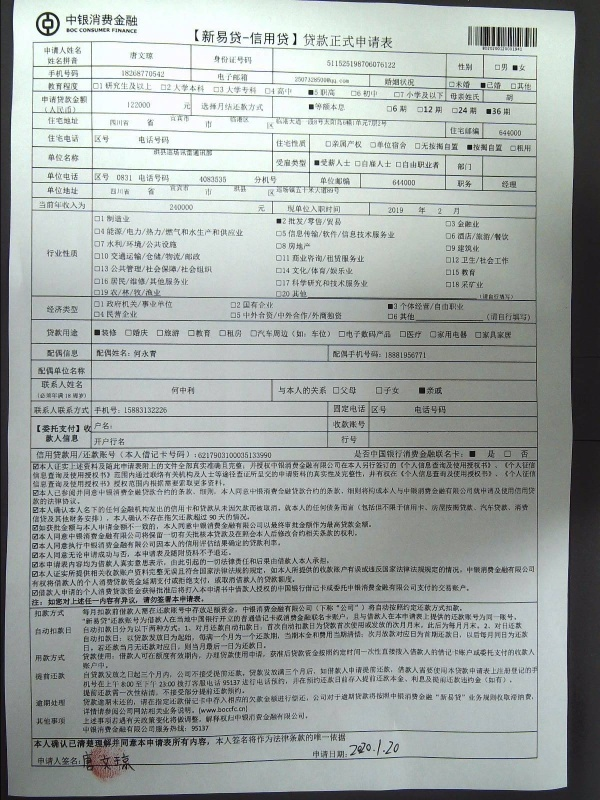text: (193, 27, 208, 52), (209, 27, 224, 52), (225, 27, 240, 52), (241, 27, 256, 52), (257, 27, 272, 52), (273, 27, 288, 52), (289, 27, 304, 52), (305, 27, 320, 52), (321, 27, 336, 52), (337, 27, 352, 52), (353, 27, 368, 52), (369, 27, 384, 52), (81, 750, 96, 775), (97, 750, 112, 775), (113, 750, 128, 775), (97, 81, 112, 102), (113, 81, 128, 102), (129, 81, 144, 102), (145, 81, 160, 102), (161, 81, 176, 102), (177, 81, 192, 102), (193, 81, 208, 102), (209, 81, 224, 102), (225, 81, 240, 102), (241, 81, 256, 102), (257, 81, 272, 102), (273, 81, 288, 102), (289, 81, 304, 102), (305, 81, 320, 102), (321, 81, 336, 102), (337, 81, 352, 102), (353, 81, 368, 102), (369, 81, 384, 102), (385, 81, 400, 102), (401, 81, 416, 102), (417, 81, 432, 102), (353, 738, 368, 759), (369, 738, 384, 759), (385, 738, 400, 759), (385, 27, 397, 52), (433, 81, 447, 102), (49, 732, 64, 751), (65, 732, 80, 751), (81, 732, 96, 751), (97, 732, 112, 751), (113, 732, 128, 751), (129, 732, 144, 751), (145, 732, 160, 751), (161, 732, 176, 751), (177, 732, 192, 751), (193, 732, 208, 751), (209, 732, 224, 751), (225, 732, 240, 751), (241, 732, 256, 751), (257, 732, 272, 751), (273, 732, 288, 751), (289, 732, 304, 751), (305, 732, 320, 751), (321, 732, 336, 751), (34, 732, 48, 751), (81, 12, 96, 29), (97, 12, 112, 29), (113, 12, 128, 29), (337, 732, 350, 751), (337, 137, 352, 153), (353, 137, 368, 153), (369, 137, 384, 153), (385, 137, 400, 153), (401, 137, 416, 153), (417, 137, 432, 153), (433, 137, 448, 153), (449, 137, 464, 153), (465, 137, 480, 153), (481, 137, 496, 153), (497, 137, 512, 153), (513, 137, 528, 153), (33, 583, 48, 599), (49, 583, 64, 599), (65, 583, 80, 599), (81, 583, 96, 599), (97, 583, 112, 599), (113, 583, 128, 599), (129, 583, 144, 599), (145, 583, 160, 599), (161, 583, 176, 599), (177, 583, 192, 599), (193, 583, 208, 599), (209, 583, 224, 599), (225, 583, 240, 599), (241, 583, 256, 599), (257, 583, 272, 599), (273, 583, 288, 599), (289, 583, 304, 599), (305, 583, 320, 599), (321, 583, 336, 599), (337, 583, 352, 599), (353, 583, 368, 599), (369, 583, 384, 599), (385, 583, 400, 599), (401, 583, 416, 599), (417, 583, 432, 599), (433, 583, 448, 599), (449, 583, 464, 599), (33, 594, 48, 610), (49, 594, 64, 610), (65, 594, 80, 610), (81, 594, 96, 610), (97, 594, 112, 610), (113, 594, 128, 610), (129, 594, 144, 610), (145, 594, 160, 610), (161, 594, 176, 610), (177, 594, 192, 610), (193, 594, 208, 610), (81, 620, 96, 636), (97, 620, 112, 636), (113, 620, 128, 636), (129, 620, 144, 636), (145, 620, 160, 636), (161, 620, 176, 636), (177, 620, 192, 636), (193, 620, 208, 636), (209, 620, 224, 636), (225, 620, 240, 636), (241, 620, 256, 636), (257, 620, 272, 636), (273, 620, 288, 636), (289, 620, 304, 636), (305, 620, 320, 636), (321, 620, 336, 636), (337, 620, 352, 636), (353, 620, 368, 636), (369, 620, 384, 636), (385, 620, 400, 636), (401, 620, 416, 636), (417, 620, 432, 636), (433, 620, 448, 636), (449, 620, 464, 636), (465, 620, 480, 636), (481, 620, 496, 636), (497, 620, 512, 636), (513, 620, 528, 636), (66, 12, 80, 29), (129, 12, 143, 29), (385, 104, 400, 119), (401, 104, 416, 119), (417, 104, 432, 119), (433, 104, 448, 119), (449, 104, 464, 119), (465, 104, 480, 119), (481, 104, 496, 119), (497, 104, 512, 119), (97, 327, 112, 342), (113, 327, 128, 342), (129, 327, 144, 342), (145, 327, 160, 342), (161, 327, 176, 342), (177, 327, 192, 342), (193, 327, 208, 342), (209, 327, 224, 342), (225, 327, 240, 342), (241, 327, 256, 342), (257, 327, 272, 342), (273, 327, 288, 342), (289, 327, 304, 342), (305, 327, 320, 342), (321, 327, 336, 342), (337, 327, 352, 342), (353, 327, 368, 342), (369, 327, 384, 342), (385, 327, 400, 342), (401, 327, 416, 342), (417, 327, 432, 342), (433, 327, 448, 342), (449, 327, 464, 342), (465, 327, 480, 342), (481, 327, 496, 342), (497, 327, 512, 342), (33, 564, 48, 579), (49, 564, 64, 579), (65, 564, 80, 579), (81, 564, 96, 579), (97, 564, 112, 579), (113, 564, 128, 579), (129, 564, 144, 579), (145, 564, 160, 579), (161, 564, 176, 579), (177, 564, 192, 579), (193, 564, 208, 579), (209, 564, 224, 579), (225, 564, 240, 579), (241, 564, 256, 579), (257, 564, 272, 579), (273, 564, 288, 579), (289, 564, 304, 579), (305, 564, 320, 579), (321, 564, 336, 579), (337, 564, 352, 579), (353, 564, 368, 579), (369, 564, 384, 579), (385, 564, 400, 579), (401, 564, 416, 579), (417, 564, 432, 579), (433, 564, 448, 579), (449, 564, 464, 579), (465, 564, 480, 579), (481, 564, 496, 579), (497, 564, 512, 579), (513, 564, 528, 579), (97, 603, 112, 618), (113, 603, 128, 618), (129, 603, 144, 618), (145, 603, 160, 618), (161, 603, 176, 618), (177, 603, 192, 618), (193, 603, 208, 618), (209, 603, 224, 618), (225, 603, 240, 618), (241, 603, 256, 618), (257, 603, 272, 618), (273, 603, 288, 618), (289, 603, 304, 618), (305, 603, 320, 618), (321, 603, 336, 618), (337, 603, 352, 618), (353, 603, 368, 618), (369, 603, 384, 618), (385, 603, 400, 618), (401, 603, 416, 618), (417, 603, 432, 618), (433, 603, 448, 618), (449, 603, 464, 618), (97, 647, 112, 662), (113, 647, 128, 662), (129, 647, 144, 662), (145, 647, 160, 662), (161, 647, 176, 662), (177, 647, 192, 662), (193, 647, 208, 662), (209, 647, 224, 662), (225, 647, 240, 662), (241, 647, 256, 662), (257, 647, 272, 662), (273, 647, 288, 662), (289, 647, 304, 662), (305, 647, 320, 662), (321, 647, 336, 662), (337, 647, 352, 662), (353, 647, 368, 662), (369, 647, 384, 662), (385, 647, 400, 662), (401, 647, 416, 662), (417, 647, 432, 662), (433, 647, 448, 662), (449, 647, 464, 662), (465, 647, 480, 662), (481, 647, 496, 662), (497, 647, 512, 662), (513, 647, 528, 662), (97, 665, 112, 680), (113, 665, 128, 680), (129, 665, 144, 680), (145, 665, 160, 680), (161, 665, 176, 680), (177, 665, 192, 680), (193, 665, 208, 680), (209, 665, 224, 680), (225, 665, 240, 680), (241, 665, 256, 680), (257, 665, 272, 680), (273, 665, 288, 680), (289, 665, 304, 680), (305, 665, 320, 680), (321, 665, 336, 680), (337, 665, 352, 680), (353, 665, 368, 680), (369, 665, 384, 680), (385, 665, 400, 680), (401, 665, 416, 680), (417, 665, 432, 680), (433, 665, 448, 680), (449, 665, 464, 680), (465, 665, 480, 680), (481, 665, 496, 680), (497, 665, 512, 680), (513, 665, 528, 680), (97, 693, 112, 708), (113, 693, 128, 708), (129, 693, 144, 708), (145, 693, 160, 708), (161, 693, 176, 708), (177, 693, 192, 708), (193, 693, 208, 708), (209, 693, 224, 708), (225, 693, 240, 708), (241, 693, 256, 708), (257, 693, 272, 708), (273, 693, 288, 708), (289, 693, 304, 708), (305, 693, 320, 708), (321, 693, 336, 708), (337, 693, 352, 708), (353, 693, 368, 708), (369, 693, 384, 708), (385, 693, 400, 708), (401, 693, 416, 708), (417, 693, 432, 708), (433, 693, 448, 708), (449, 693, 464, 708), (465, 693, 480, 708), (481, 693, 496, 708), (497, 693, 512, 708), (513, 693, 528, 708), (273, 538, 289, 552), (321, 158, 336, 172), (337, 158, 352, 172), (353, 158, 368, 172), (369, 158, 384, 172), (385, 158, 400, 172), (401, 158, 416, 172), (417, 158, 432, 172), (289, 228, 304, 242), (305, 228, 320, 242), (321, 228, 336, 242), (337, 228, 352, 242), (353, 228, 368, 242), (369, 228, 384, 242), (289, 253, 304, 267), (305, 253, 320, 267), (321, 253, 336, 267), (337, 253, 352, 267), (33, 502, 48, 516), (49, 502, 64, 516), (65, 502, 80, 516), (81, 502, 96, 516), (97, 502, 112, 516), (113, 502, 128, 516), (129, 502, 144, 516), (145, 502, 160, 516), (161, 502, 176, 516), (177, 502, 192, 516), (193, 502, 208, 516), (209, 502, 224, 516), (225, 502, 240, 516), (241, 502, 256, 516), (257, 502, 272, 516), (273, 502, 288, 516), (289, 502, 304, 516), (305, 502, 320, 516), (321, 502, 336, 516), (337, 502, 352, 516), (353, 502, 368, 516), (369, 502, 384, 516), (385, 502, 400, 516), (401, 502, 416, 516), (417, 502, 432, 516), (433, 502, 448, 516), (449, 502, 464, 516), (465, 502, 480, 516), (481, 502, 496, 516), (497, 502, 512, 516), (513, 502, 528, 516), (33, 538, 48, 552), (49, 538, 64, 552), (65, 538, 80, 552), (81, 538, 96, 552), (97, 538, 112, 552), (113, 538, 128, 552), (129, 538, 144, 552), (145, 538, 160, 552), (161, 538, 176, 552), (177, 538, 192, 552), (193, 538, 208, 552), (209, 538, 224, 552), (225, 538, 240, 552), (241, 538, 256, 552), (257, 538, 272, 552), (33, 556, 48, 570), (49, 556, 64, 570), (65, 556, 80, 570), (81, 556, 96, 570), (97, 556, 112, 570), (113, 556, 128, 570), (129, 556, 144, 570), (145, 556, 160, 570), (161, 556, 176, 570), (177, 556, 192, 570), (193, 556, 208, 570), (209, 556, 224, 570), (225, 556, 240, 570), (241, 556, 256, 570), (257, 556, 272, 570), (273, 556, 288, 570), (289, 556, 304, 570), (305, 556, 320, 570), (49, 607, 64, 621), (49, 625, 64, 639), (49, 669, 64, 683), (81, 612, 96, 626), (97, 612, 112, 626), (113, 612, 128, 626), (129, 612, 144, 626), (145, 612, 160, 626), (161, 612, 176, 626), (177, 612, 192, 626), (193, 612, 208, 626), (209, 612, 224, 626), (225, 612, 240, 626), (241, 612, 256, 626), (257, 612, 272, 626), (273, 612, 288, 626), (289, 612, 304, 626), (305, 612, 320, 626), (321, 612, 336, 626), (337, 612, 352, 626), (353, 612, 368, 626), (369, 612, 384, 626), (385, 612, 400, 626), (401, 612, 416, 626), (417, 612, 432, 626), (433, 612, 448, 626), (449, 612, 464, 626), (465, 612, 480, 626), (481, 612, 496, 626), (497, 612, 512, 626), (81, 630, 96, 644), (97, 630, 112, 644), (113, 630, 128, 644), (129, 630, 144, 644), (145, 630, 160, 644), (161, 630, 176, 644), (177, 630, 192, 644), (193, 630, 208, 644), (209, 630, 224, 644), (225, 630, 240, 644), (241, 630, 256, 644), (257, 630, 272, 644), (273, 630, 288, 644), (289, 630, 304, 644), (305, 630, 320, 644), (321, 630, 336, 644), (337, 630, 352, 644), (353, 630, 368, 644), (369, 630, 384, 644), (385, 630, 400, 644), (401, 630, 416, 644), (417, 630, 432, 644), (433, 630, 448, 644), (449, 630, 464, 644), (465, 630, 480, 644), (481, 630, 496, 644), (497, 630, 512, 644), (513, 630, 528, 644), (82, 647, 96, 662), (82, 665, 96, 680), (97, 675, 112, 689), (113, 675, 128, 689), (129, 675, 144, 689), (145, 675, 160, 689), (161, 675, 176, 689), (177, 675, 192, 689), (193, 675, 208, 689), (209, 675, 224, 689), (225, 675, 240, 689), (241, 675, 256, 689), (257, 675, 272, 689), (273, 675, 288, 689), (289, 675, 304, 689), (305, 675, 320, 689), (321, 675, 336, 689), (337, 675, 352, 689), (353, 675, 368, 689), (369, 675, 384, 689), (385, 675, 400, 689), (401, 675, 416, 689), (417, 675, 432, 689), (433, 675, 448, 689), (449, 675, 464, 689), (465, 675, 480, 689), (481, 675, 496, 689), (497, 675, 512, 689), (82, 693, 96, 708), (97, 704, 112, 718), (113, 704, 128, 718), (129, 704, 144, 718), (145, 704, 160, 718), (161, 704, 176, 718), (177, 704, 192, 718), (193, 704, 208, 718), (209, 704, 224, 718), (225, 704, 240, 718), (97, 712, 112, 726), (113, 712, 128, 726), (129, 712, 144, 726), (145, 712, 160, 726), (161, 712, 176, 726), (177, 712, 192, 726), (193, 712, 208, 726), (209, 712, 224, 726), (225, 712, 240, 726), (241, 712, 256, 726), (257, 712, 272, 726), (273, 712, 288, 726), (289, 712, 304, 726), (81, 722, 96, 736), (97, 722, 112, 736), (113, 722, 128, 736), (129, 722, 144, 736), (145, 722, 160, 736), (161, 722, 176, 736), (177, 722, 192, 736), (193, 722, 208, 736), (177, 112, 193, 125), (177, 275, 193, 288), (497, 254, 513, 267), (241, 512, 257, 525), (129, 750, 137, 775), (274, 228, 288, 242), (385, 228, 399, 242), (274, 253, 288, 267), (353, 253, 367, 267), (34, 625, 48, 639), (82, 675, 96, 689), (82, 704, 96, 718), (225, 53, 240, 66), (337, 58, 352, 71), (353, 58, 368, 71), (369, 58, 384, 71), (449, 80, 464, 93), (465, 80, 480, 93), (481, 80, 496, 93), (497, 80, 512, 93), (513, 80, 528, 93), (321, 101, 336, 114), (49, 114, 64, 127), (65, 114, 80, 127), (97, 172, 112, 185), (113, 172, 128, 185), (129, 172, 144, 185), (145, 172, 160, 185), (97, 225, 112, 238), (113, 225, 128, 238), (129, 225, 144, 238), (145, 225, 160, 238), (161, 225, 176, 238), (177, 225, 192, 238), (193, 225, 208, 238), (209, 225, 224, 238), (225, 225, 240, 238), (97, 262, 112, 275), (113, 262, 128, 275), (129, 262, 144, 275), (145, 262, 160, 275), (161, 262, 176, 275), (177, 262, 192, 275), (193, 262, 208, 275), (97, 275, 112, 288), (113, 275, 128, 288), (129, 275, 144, 288), (145, 275, 160, 288), (161, 275, 176, 288), (289, 265, 304, 278), (305, 265, 320, 278), (321, 265, 336, 278), (337, 265, 352, 278), (289, 276, 304, 289), (305, 276, 320, 289), (321, 276, 336, 289), (337, 276, 352, 289), (353, 276, 368, 289), (449, 254, 464, 267), (465, 254, 480, 267), (481, 254, 496, 267), (449, 278, 464, 291), (465, 278, 480, 291), (97, 309, 112, 322), (113, 309, 128, 322), (417, 404, 432, 417), (433, 404, 448, 417), (49, 422, 64, 435), (65, 422, 80, 435), (97, 436, 112, 449), (113, 436, 128, 449), (33, 512, 48, 525), (49, 512, 64, 525), (65, 512, 80, 525), (81, 512, 96, 525), (97, 512, 112, 525), (113, 512, 128, 525), (129, 512, 144, 525), (145, 512, 160, 525), (161, 512, 176, 525), (177, 512, 192, 525), (193, 512, 208, 525), (209, 512, 224, 525), (225, 512, 240, 525), (33, 520, 48, 533), (49, 520, 64, 533), (65, 520, 80, 533), (81, 520, 96, 533), (97, 520, 112, 533), (113, 520, 128, 533), (129, 520, 144, 533), (145, 520, 160, 533), (161, 520, 176, 533), (177, 520, 192, 533), (193, 520, 208, 533), (209, 520, 224, 533), (225, 520, 240, 533), (241, 520, 256, 533), (257, 520, 272, 533), (273, 520, 288, 533), (289, 520, 304, 533), (305, 520, 320, 533), (321, 520, 336, 533), (337, 520, 352, 533), (353, 520, 368, 533), (33, 529, 48, 542), (49, 529, 64, 542), (65, 529, 80, 542), (81, 529, 96, 542), (97, 529, 112, 542), (113, 529, 128, 542), (129, 529, 144, 542), (145, 529, 160, 542), (161, 529, 176, 542), (177, 529, 192, 542), (193, 529, 208, 542), (209, 529, 224, 542), (225, 529, 240, 542), (241, 529, 256, 542), (257, 529, 272, 542), (273, 529, 288, 542), (289, 529, 304, 542), (305, 529, 320, 542), (321, 529, 336, 542), (337, 529, 352, 542), (33, 548, 48, 561), (49, 548, 64, 561), (65, 548, 80, 561), (81, 548, 96, 561), (97, 548, 112, 561), (113, 548, 128, 561), (129, 548, 144, 561), (145, 548, 160, 561), (161, 548, 176, 561), (177, 548, 192, 561), (193, 548, 208, 561), (209, 548, 224, 561), (33, 575, 48, 588), (49, 575, 64, 588), (65, 575, 80, 588), (81, 575, 96, 588), (97, 575, 112, 588), (113, 575, 128, 588), (129, 575, 144, 588), (145, 575, 160, 588), (161, 575, 176, 588), (177, 575, 192, 588), (193, 575, 208, 588), (209, 575, 224, 588), (225, 575, 240, 588), (241, 575, 256, 588), (257, 575, 272, 588), (273, 575, 288, 588), (49, 652, 64, 665), (49, 716, 64, 729), (83, 603, 96, 618), (81, 641, 96, 654), (97, 641, 112, 654), (113, 641, 128, 654), (129, 641, 144, 654), (145, 641, 160, 654), (161, 641, 176, 654), (177, 641, 192, 654), (193, 641, 208, 654), (209, 641, 224, 654), (225, 641, 240, 654), (241, 641, 256, 654), (257, 641, 272, 654), (49, 755, 64, 768), (65, 755, 80, 768), (321, 749, 336, 762), (513, 62, 529, 74), (65, 304, 81, 316), (241, 53, 255, 66), (385, 58, 399, 71), (274, 276, 288, 289), (289, 575, 303, 588), (35, 607, 48, 621), (34, 652, 48, 665), (35, 669, 48, 683), (83, 712, 96, 726), (337, 749, 351, 762), (49, 56, 64, 68), (65, 56, 80, 68), (497, 62, 512, 74), (209, 101, 224, 113), (225, 101, 240, 113), (241, 101, 256, 113), (465, 125, 480, 137), (289, 138, 304, 150), (49, 152, 64, 164), (65, 152, 80, 164), (161, 147, 176, 159), (177, 147, 192, 159), (193, 147, 208, 159), (321, 175, 336, 187), (337, 175, 352, 187), (49, 200, 64, 212), (65, 200, 80, 212), (49, 248, 64, 260), (65, 248, 80, 260), (97, 238, 112, 250), (113, 238, 128, 250), (129, 238, 144, 250), (145, 238, 160, 250), (161, 238, 176, 250), (97, 251, 112, 263), (113, 251, 128, 263), (129, 251, 144, 263), (145, 251, 160, 263), (161, 251, 176, 263), (177, 251, 192, 263), (289, 216, 304, 228), (305, 216, 320, 228), (321, 216, 336, 228), (289, 241, 304, 253), (449, 243, 464, 255), (465, 243, 480, 255), (49, 304, 64, 316), (401, 312, 416, 324), (497, 312, 512, 324), (513, 312, 528, 324), (49, 348, 64, 360), (65, 348, 80, 360), (97, 348, 112, 360), (113, 348, 128, 360), (129, 348, 144, 360), (49, 365, 64, 377), (65, 365, 80, 377), (289, 385, 304, 397), (305, 385, 320, 397), (321, 385, 336, 397), (337, 385, 352, 397), (353, 385, 368, 397), (369, 385, 384, 397), (385, 385, 400, 397), (401, 385, 416, 397), (417, 385, 432, 397), (337, 404, 352, 416), (353, 404, 368, 416), (369, 404, 384, 416), (97, 420, 112, 432), (49, 432, 64, 444), (65, 432, 80, 444), (49, 450, 64, 462), (65, 450, 80, 462), (81, 450, 96, 462), (97, 450, 112, 462), (113, 450, 128, 462), (129, 450, 144, 462), (145, 450, 160, 462), (161, 450, 176, 462), (177, 450, 192, 462), (193, 450, 208, 462), (209, 450, 224, 462), (225, 450, 240, 462), (241, 450, 256, 462), (257, 450, 272, 462), (353, 449, 368, 461), (369, 449, 384, 461), (385, 449, 400, 461), (401, 449, 416, 461), (417, 449, 432, 461), (433, 449, 448, 461), (449, 449, 464, 461), (465, 449, 480, 461), (481, 449, 496, 461), (497, 449, 512, 461), (513, 449, 528, 461), (33, 469, 48, 481), (49, 469, 64, 481), (65, 469, 80, 481), (81, 469, 96, 481), (97, 469, 112, 481), (113, 469, 128, 481), (129, 469, 144, 481), (145, 469, 160, 481), (161, 469, 176, 481), (177, 469, 192, 481), (193, 469, 208, 481), (209, 469, 224, 481), (225, 469, 240, 481), (241, 469, 256, 481), (257, 469, 272, 481), (273, 469, 288, 481), (289, 469, 304, 481), (305, 469, 320, 481), (321, 469, 336, 481), (337, 469, 352, 481), (353, 469, 368, 481), (369, 469, 384, 481), (385, 469, 400, 481), (401, 469, 416, 481), (417, 469, 432, 481), (433, 469, 448, 481), (449, 469, 464, 481), (465, 469, 480, 481), (481, 469, 496, 481), (497, 469, 512, 481), (513, 469, 528, 481), (33, 486, 48, 498), (49, 486, 64, 498), (65, 486, 80, 498), (81, 486, 96, 498), (97, 486, 112, 498), (113, 486, 128, 498), (129, 486, 144, 498), (145, 486, 160, 498), (161, 486, 176, 498), (177, 486, 192, 498), (193, 486, 208, 498), (209, 486, 224, 498), (225, 486, 240, 498), (241, 486, 256, 498), (257, 486, 272, 498), (273, 486, 288, 498), (289, 486, 304, 498), (305, 486, 320, 498), (321, 486, 336, 498), (337, 486, 352, 498), (353, 486, 368, 498), (369, 486, 384, 498), (385, 486, 400, 498), (401, 486, 416, 498), (417, 486, 432, 498), (433, 486, 448, 498), (449, 486, 464, 498), (465, 486, 480, 498), (481, 486, 496, 498), (497, 486, 512, 498), (513, 486, 528, 498), (49, 698, 64, 710), (529, 665, 541, 680), (337, 75, 353, 86), (65, 81, 81, 92), (325, 137, 336, 153), (337, 101, 350, 114), (275, 265, 288, 278), (35, 422, 48, 435), (81, 422, 94, 435), (225, 548, 238, 561), (35, 716, 48, 729), (130, 50, 144, 62), (450, 125, 464, 137), (386, 312, 400, 324), (145, 348, 159, 360), (433, 385, 447, 397), (321, 556, 333, 570), (241, 704, 253, 718), (81, 26, 96, 37), (97, 26, 112, 37), (113, 26, 128, 37), (49, 45, 64, 56), (65, 45, 80, 56), (305, 75, 320, 86), (321, 75, 336, 86), (49, 81, 64, 92), (49, 95, 64, 106), (65, 95, 80, 106), (49, 105, 64, 116), (129, 100, 144, 111), (289, 118, 304, 129), (305, 118, 320, 129), (321, 118, 336, 129), (337, 118, 352, 129), (353, 118, 368, 129), (369, 118, 384, 129), (49, 133, 64, 144), (65, 133, 80, 144), (289, 158, 304, 169), (49, 171, 64, 182), (65, 171, 80, 182), (209, 175, 224, 186), (257, 175, 272, 186), (49, 186, 64, 197), (65, 186, 80, 197), (177, 182, 192, 193), (401, 206, 416, 217), (417, 206, 432, 217), (433, 206, 448, 217), (97, 214, 112, 225), (113, 214, 128, 225), (97, 287, 112, 298), (113, 287, 128, 298), (129, 287, 144, 298), (145, 287, 160, 298), (273, 288, 288, 299), (289, 288, 304, 299), (449, 219, 464, 230), (465, 219, 480, 230), (449, 231, 464, 242), (465, 231, 480, 242), (481, 231, 496, 242), (497, 231, 512, 242), (449, 267, 464, 278), (481, 291, 496, 302), (497, 291, 512, 302), (241, 300, 256, 311), (257, 300, 272, 311), (241, 311, 256, 322), (257, 311, 272, 322), (273, 311, 288, 322), (289, 311, 304, 322), (305, 311, 320, 322), (321, 311, 336, 322), (401, 301, 416, 312), (417, 301, 432, 312), (433, 301, 448, 312), (449, 301, 464, 312), (49, 327, 64, 338), (65, 327, 80, 338), (49, 380, 64, 391), (65, 380, 80, 391), (337, 419, 352, 430), (33, 479, 48, 490), (49, 479, 64, 490), (65, 479, 80, 490), (81, 479, 96, 490), (97, 479, 112, 490), (113, 479, 128, 490), (129, 479, 144, 490), (145, 479, 160, 490), (161, 479, 176, 490), (177, 479, 192, 490), (193, 479, 208, 490), (209, 479, 224, 490), (81, 687, 96, 698), (97, 687, 112, 698), (113, 687, 128, 698), (129, 687, 144, 698), (145, 687, 160, 698), (161, 687, 176, 698), (177, 687, 192, 698), (193, 687, 208, 698), (209, 687, 224, 698), (225, 687, 240, 698), (161, 300, 177, 310), (147, 117, 160, 129), (275, 216, 288, 228), (275, 241, 288, 253), (129, 309, 141, 322), (340, 433, 352, 446), (35, 698, 48, 710), (66, 26, 80, 37), (498, 128, 512, 139), (97, 134, 111, 145), (386, 206, 400, 217), (449, 206, 463, 217), (386, 301, 400, 312), (481, 44, 496, 54), (497, 44, 512, 54), (49, 69, 64, 79), (65, 69, 80, 79), (129, 69, 144, 79), (145, 69, 160, 79), (225, 72, 240, 82), (385, 77, 400, 87), (401, 77, 416, 87), (113, 118, 128, 128), (145, 136, 160, 146), (289, 205, 304, 215), (305, 205, 320, 215), (321, 205, 336, 215), (97, 300, 112, 310), (113, 300, 128, 310), (129, 300, 144, 310), (145, 300, 160, 310), (337, 350, 352, 360), (353, 350, 368, 360), (369, 350, 384, 360), (385, 350, 400, 360), (401, 350, 416, 360), (49, 391, 64, 401), (65, 391, 80, 401), (529, 647, 539, 662), (97, 661, 112, 671), (529, 693, 539, 708), (276, 138, 288, 150), (193, 251, 205, 263), (305, 241, 317, 253), (36, 450, 48, 462), (529, 469, 541, 481), (465, 583, 474, 599), (213, 53, 224, 66), (65, 105, 78, 116), (309, 101, 320, 114), (513, 128, 526, 139), (161, 172, 172, 185), (465, 267, 478, 278), (353, 419, 366, 430), (353, 529, 364, 542), (37, 755, 48, 768), (433, 158, 443, 172), (82, 661, 96, 671), (465, 92, 480, 101), (401, 178, 416, 187), (113, 187, 128, 196), (177, 203, 192, 212), (177, 386, 192, 395), (49, 406, 64, 415), (65, 406, 80, 415), (81, 406, 96, 415), (97, 406, 112, 415), (113, 406, 128, 415), (129, 406, 144, 415), (145, 406, 160, 415), (33, 462, 48, 471), (49, 462, 64, 471), (65, 462, 80, 471), (81, 462, 96, 471), (97, 462, 112, 471), (113, 462, 128, 471), (129, 462, 144, 471), (145, 462, 160, 471), (161, 462, 176, 471), (177, 462, 192, 471), (193, 462, 208, 471), (209, 462, 224, 471), (225, 462, 240, 471), (241, 462, 256, 471), (257, 462, 272, 471), (273, 462, 288, 471), (289, 462, 304, 471), (305, 462, 320, 471), (321, 462, 336, 471), (337, 462, 352, 471), (353, 462, 368, 471), (369, 462, 384, 471), (385, 462, 400, 471), (401, 462, 416, 471), (417, 462, 432, 471), (433, 462, 448, 471), (449, 462, 464, 471), (465, 462, 480, 471), (481, 462, 496, 471), (497, 462, 512, 471), (513, 462, 528, 471), (33, 497, 48, 506), (49, 497, 64, 506), (65, 497, 80, 506), (529, 564, 538, 579), (129, 26, 141, 37), (145, 50, 156, 62), (465, 62, 476, 74), (257, 101, 268, 113), (241, 114, 253, 125), (276, 158, 288, 169), (465, 162, 476, 174), (228, 311, 240, 322), (485, 312, 496, 324), (37, 365, 48, 377), (513, 44, 526, 54), (147, 187, 160, 197), (450, 92, 464, 101), (258, 203, 272, 212), (513, 612, 522, 626), (229, 114, 240, 125), (277, 118, 288, 129), (229, 300, 240, 311), (289, 187, 304, 195), (305, 187, 320, 195), (321, 187, 336, 195), (417, 350, 429, 360), (278, 385, 288, 397), (35, 406, 48, 415), (65, 625, 73, 639), (305, 712, 313, 726), (241, 72, 252, 82), (294, 75, 304, 86), (81, 95, 91, 106), (182, 101, 192, 112), (161, 136, 172, 146), (501, 179, 512, 189), (37, 391, 48, 401), (241, 687, 251, 698), (39, 200, 48, 212), (81, 200, 90, 212), (337, 216, 346, 228), (328, 58, 336, 71), (369, 520, 377, 533), (312, 749, 320, 762), (199, 175, 208, 186), (337, 311, 346, 322), (209, 722, 216, 736), (456, 62, 464, 74), (529, 137, 535, 153), (276, 187, 288, 195), (529, 486, 537, 498), (209, 262, 216, 275), (353, 433, 360, 446), (465, 179, 474, 189), (161, 406, 171, 415), (529, 462, 539, 471), (145, 100, 153, 111), (40, 380, 48, 391), (92, 81, 96, 102), (201, 101, 208, 113), (153, 147, 160, 159), (209, 147, 216, 159), (314, 158, 320, 172), (457, 162, 464, 174), (81, 365, 88, 377), (391, 178, 400, 187), (241, 184, 249, 194), (529, 80, 535, 93), (170, 112, 176, 125), (241, 225, 247, 238), (481, 278, 487, 291), (41, 95, 48, 106), (209, 119, 216, 130), (225, 479, 232, 490), (465, 603, 470, 618), (529, 449, 535, 461), (161, 69, 168, 79), (217, 72, 224, 82), (457, 179, 464, 189), (513, 179, 520, 189), (337, 205, 344, 215), (81, 391, 88, 401), (513, 675, 518, 689), (385, 118, 391, 129), (273, 175, 279, 186), (170, 182, 176, 193), (209, 187, 215, 198), (65, 716, 70, 729), (504, 94, 512, 102), (169, 203, 176, 212), (122, 69, 128, 79), (234, 184, 240, 194), (385, 404, 390, 416), (65, 669, 69, 683), (43, 105, 48, 116), (129, 214, 134, 225), (161, 287, 166, 298), (305, 288, 310, 299), (273, 300, 278, 311), (81, 380, 86, 391), (92, 275, 96, 288), (353, 265, 357, 278), (444, 254, 448, 267), (444, 278, 448, 291), (92, 436, 96, 449), (267, 121, 272, 131), (139, 136, 144, 146), (273, 188, 278, 198), (337, 187, 343, 195), (92, 238, 96, 250), (177, 238, 181, 250), (92, 251, 96, 263), (444, 243, 448, 255), (529, 312, 533, 324), (332, 404, 336, 416), (92, 420, 96, 432), (513, 104, 516, 119), (513, 327, 516, 342), (171, 386, 176, 395), (193, 386, 198, 395), (44, 45, 48, 56), (81, 45, 85, 56), (204, 119, 208, 130), (305, 158, 309, 169), (225, 175, 229, 186), (204, 187, 208, 198), (444, 219, 448, 230), (444, 231, 448, 242), (444, 267, 448, 278), (465, 301, 469, 312), (529, 630, 532, 644), (350, 738, 352, 759), (401, 738, 403, 759), (129, 118, 133, 128), (273, 121, 277, 131), (268, 188, 272, 198), (332, 350, 336, 360), (93, 225, 96, 238), (93, 309, 96, 322), (413, 404, 416, 417), (65, 652, 68, 665), (81, 755, 84, 768), (493, 62, 496, 74), (305, 138, 308, 150), (193, 203, 197, 212), (113, 420, 116, 432), (45, 432, 48, 444), (273, 450, 276, 462), (81, 497, 85, 506), (65, 698, 68, 710), (93, 287, 96, 298), (513, 291, 516, 302), (333, 419, 336, 430), (30, 583, 32, 599), (30, 594, 32, 610), (109, 118, 112, 128), (94, 327, 96, 342), (30, 564, 32, 579), (529, 502, 531, 516), (109, 187, 112, 196), (94, 172, 96, 185), (94, 262, 96, 275), (369, 276, 371, 289), (30, 512, 32, 525), (30, 548, 32, 561), (30, 575, 32, 588), (513, 94, 516, 102), (481, 125, 483, 137), (353, 175, 355, 187), (46, 248, 48, 260), (481, 243, 483, 255), (46, 304, 48, 316), (126, 100, 128, 111), (94, 214, 96, 225), (478, 291, 480, 302), (94, 300, 96, 310), (113, 661, 115, 671), (417, 178, 419, 187), (129, 187, 131, 196), (30, 497, 32, 506), (209, 594, 210, 610), (31, 502, 32, 516), (31, 538, 32, 552), (31, 556, 32, 570), (65, 607, 66, 621), (47, 114, 48, 127), (81, 114, 82, 127), (31, 520, 32, 533), (31, 529, 32, 542), (47, 56, 48, 68), (81, 56, 82, 68), (81, 152, 82, 164), (319, 175, 320, 187), (417, 312, 418, 324), (47, 348, 48, 360), (81, 348, 82, 360), (81, 432, 82, 444), (31, 486, 32, 498), (47, 81, 48, 92), (47, 133, 48, 144), (81, 133, 82, 144), (95, 134, 96, 145), (47, 171, 48, 182), (81, 171, 82, 182), (255, 175, 256, 186), (47, 186, 48, 197), (481, 219, 482, 230), (47, 327, 48, 338), (81, 327, 82, 338), (31, 479, 32, 490), (47, 69, 48, 79), (81, 69, 82, 79), (287, 205, 288, 215), (481, 92, 482, 101)
